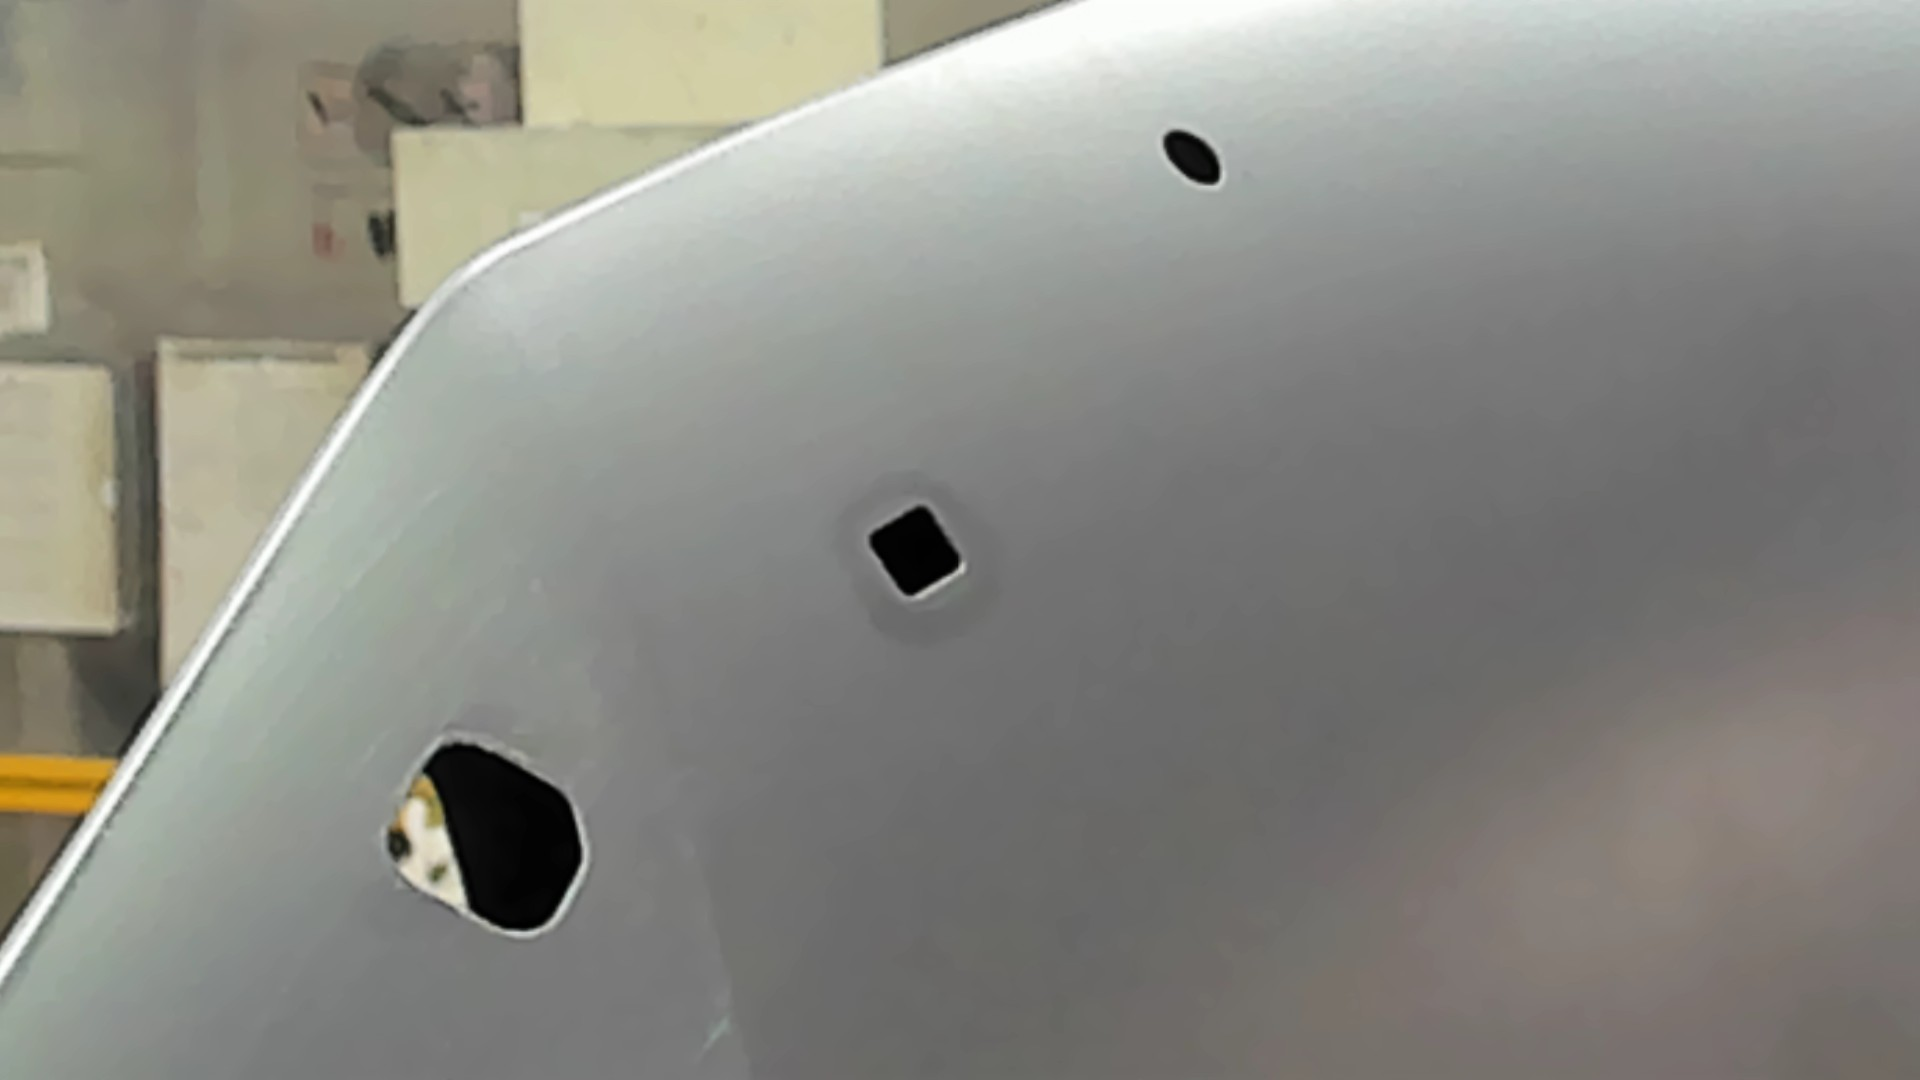chico: (1156, 123, 1229, 194)
grande: (373, 729, 596, 949)
mediano: (856, 496, 971, 609)
